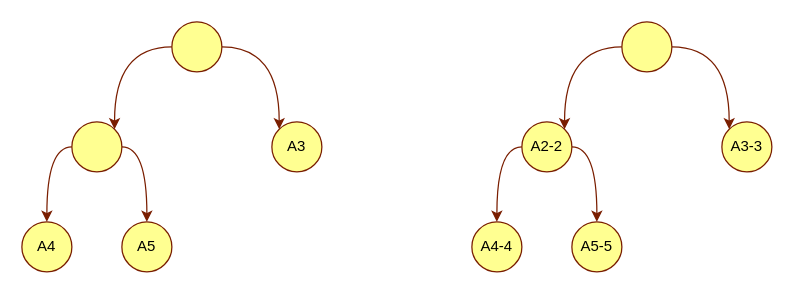
The diagram is 794 pixels wide and 294 high, and some of its shapes have lost their labels. Here are the shapes that lost their labels. From the top down, the centre of each, then its label:
At (196,46): "A1".
At (646,46): "A1-1".
At (96,146): "A2".
